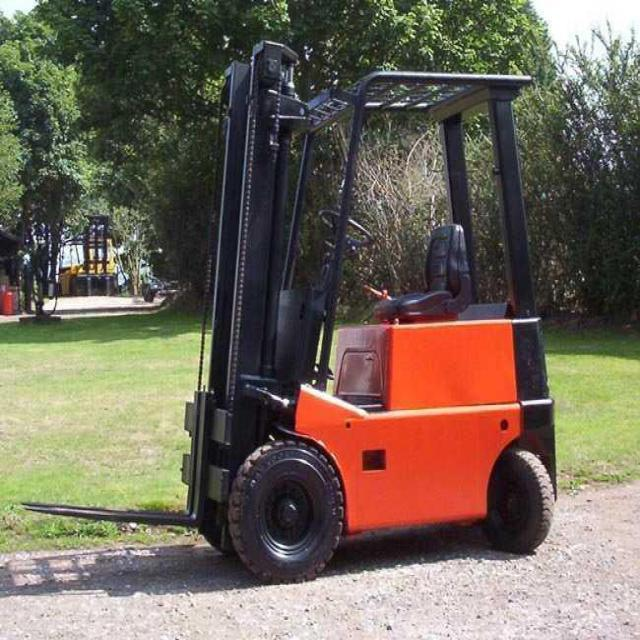forklift: (20, 40, 558, 585)
